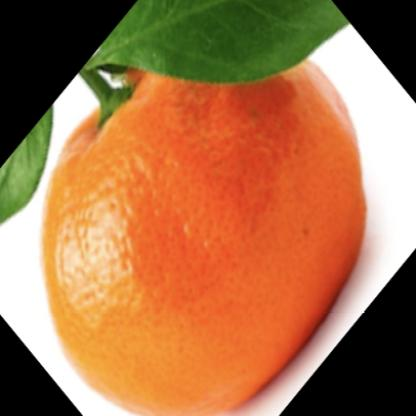fresh: (42, 31, 366, 416)
